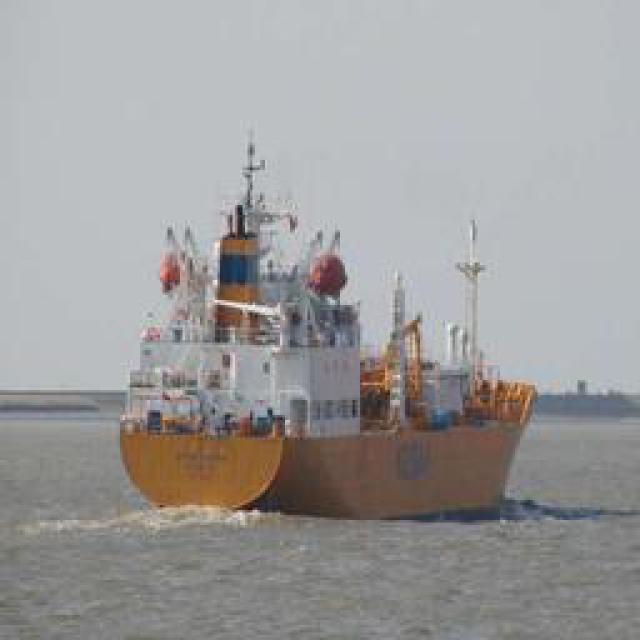Ship: (114, 154, 547, 514)
